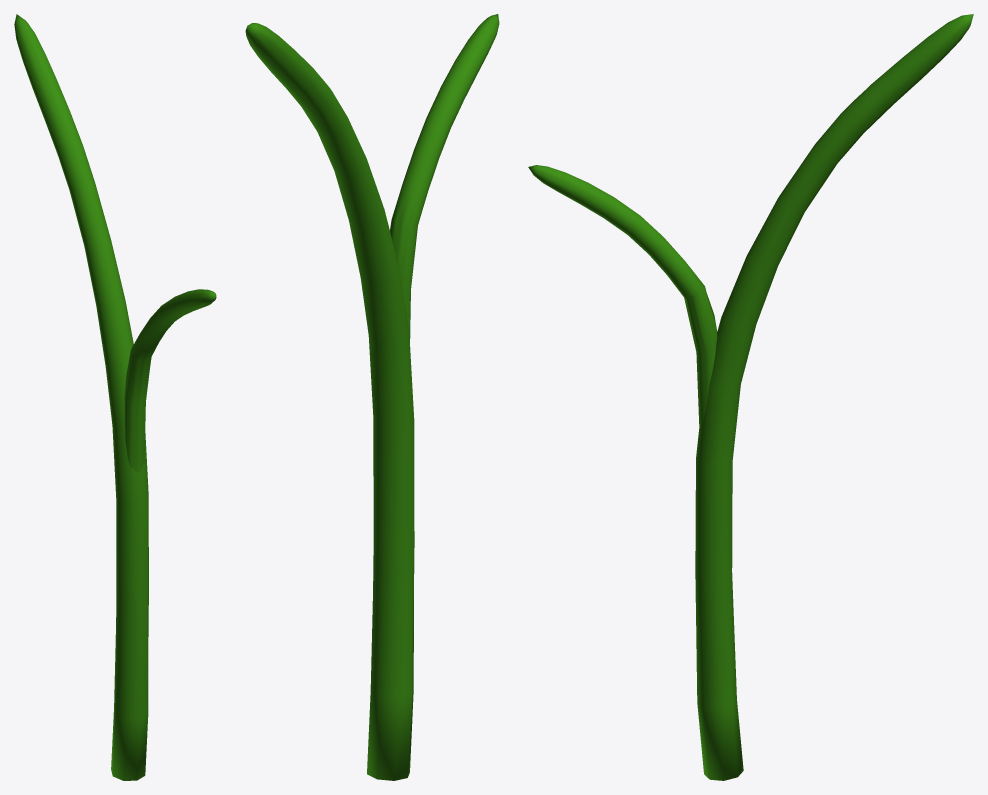
Rendered from garlic1.fbx.
The picture shows the model from 3 angles, left to right: view 1: azimuth 30°, elevation 25°; view 2: azimuth 150°, elevation 25°; view 3: azimuth 270°, elevation 25°; orthographic projection. The views are drawn at different scales.
Parts seen in each view (by area): view 1: garlic4; view 2: garlic4; view 3: garlic4.
Part boxes in pixels (x1,y1,x2,y2): garlic4: [14, 14, 216, 780]; garlic4: [245, 14, 499, 780]; garlic4: [528, 14, 973, 780].
Bounding box in the file's own units: 0.0321 × 0.6762 × 0.3593.
Materials: 1 (1 with a texture image).
